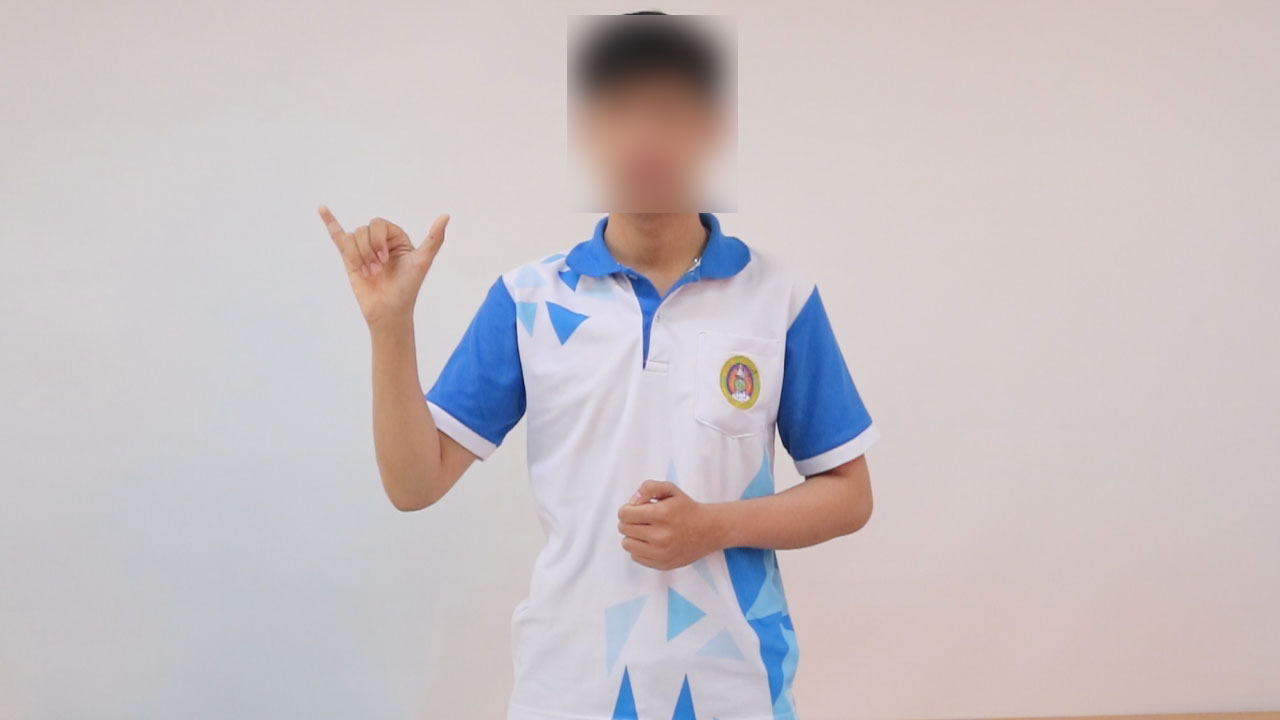yor: (300, 196, 462, 326)
